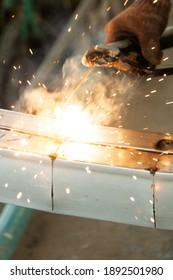gloves: (102, 1, 171, 66)
